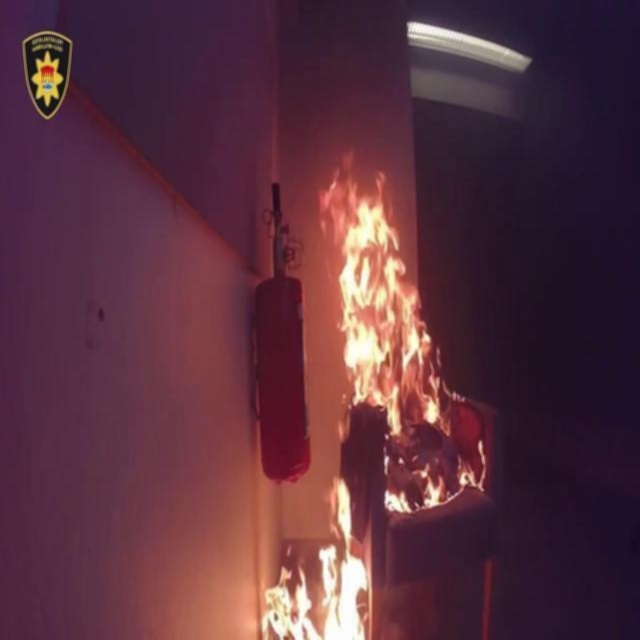fire: (252, 177, 497, 640)
